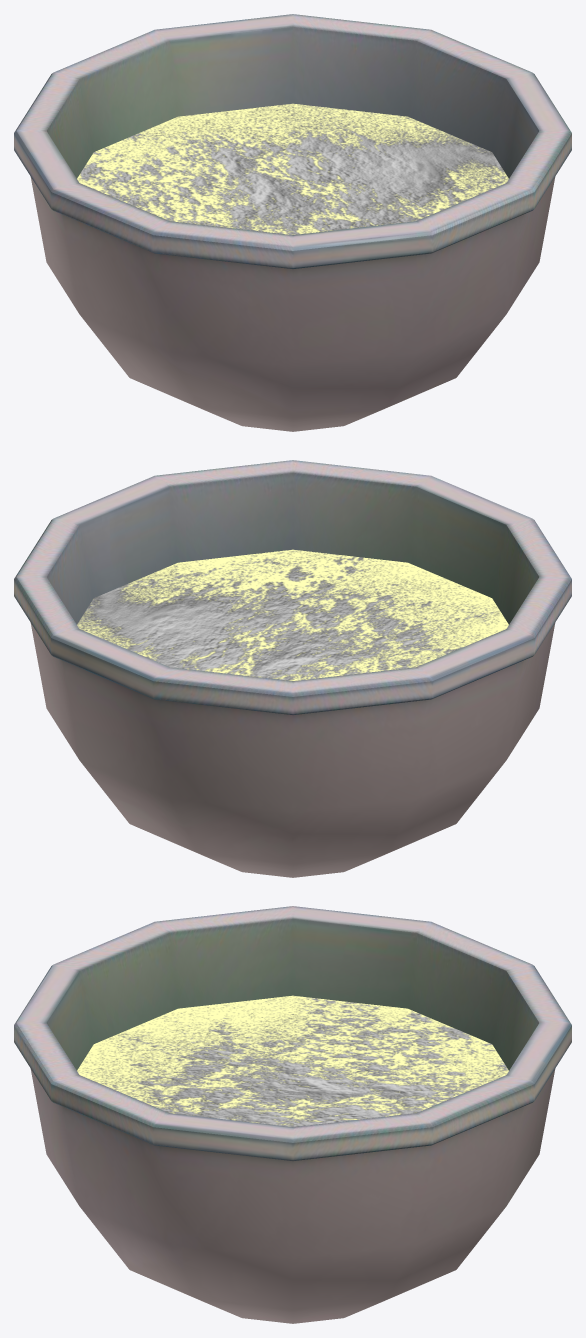
The model's file is mixingBowlFloured.gltf.
The picture shows the model from 3 angles, top to bottom: view 1: azimuth 30°, elevation 25°; view 2: azimuth 150°, elevation 25°; view 3: azimuth 270°, elevation 25°; orthographic projection.
Visible parts, largest first — view 1: MixingBowl, Cylinder.001, Cylinder; view 2: MixingBowl, Cylinder.001, Cylinder; view 3: MixingBowl, Cylinder, Cylinder.001.
Boxes of the visible parts, x1,y1,x2,y2 form: MixingBowl: [14, 14, 571, 431]; Cylinder.001: [78, 104, 508, 234]; Cylinder: [77, 103, 508, 234]; MixingBowl: [14, 460, 571, 877]; Cylinder.001: [77, 550, 506, 680]; Cylinder: [77, 549, 508, 680]; MixingBowl: [14, 906, 571, 1323]; Cylinder: [77, 995, 508, 1126]; Cylinder.001: [78, 996, 508, 1126].
Bounding box in the file's own units: 0.3931 × 0.2142 × 0.3931.
Materials: 3 (3 with a texture image).
